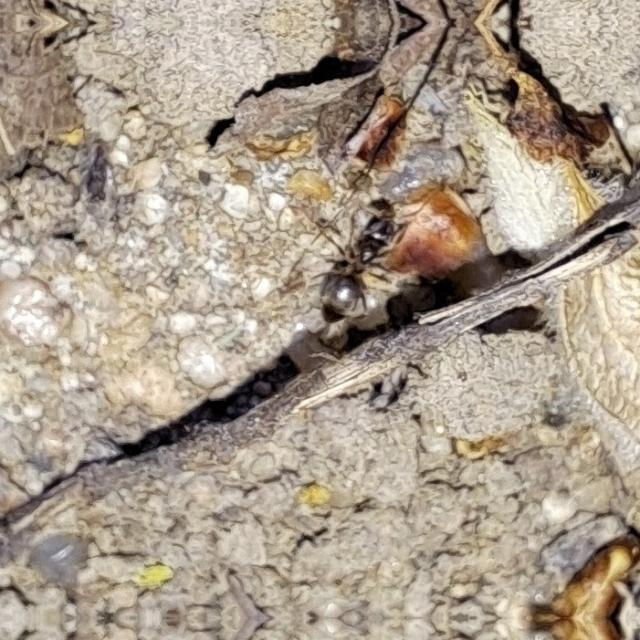Tapinoma: (298, 192, 402, 324)
